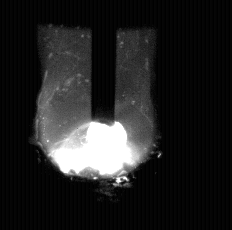arame: (92, 0, 116, 127)
poca: (35, 0, 157, 230)
